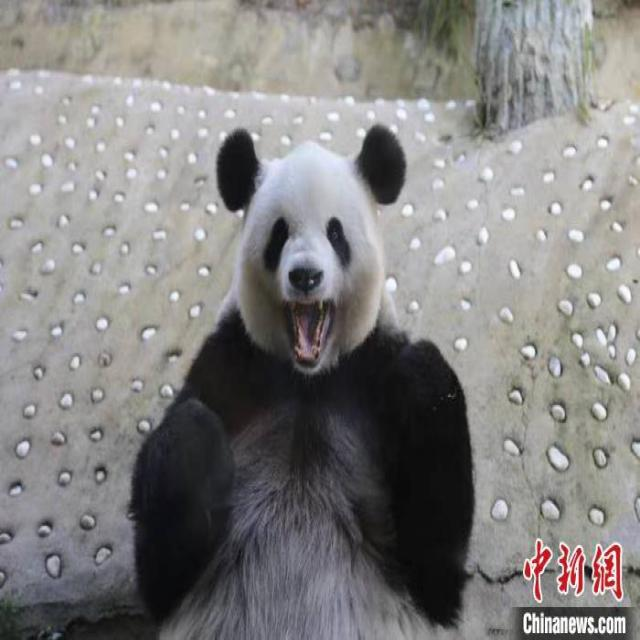panda: (128, 118, 478, 640)
